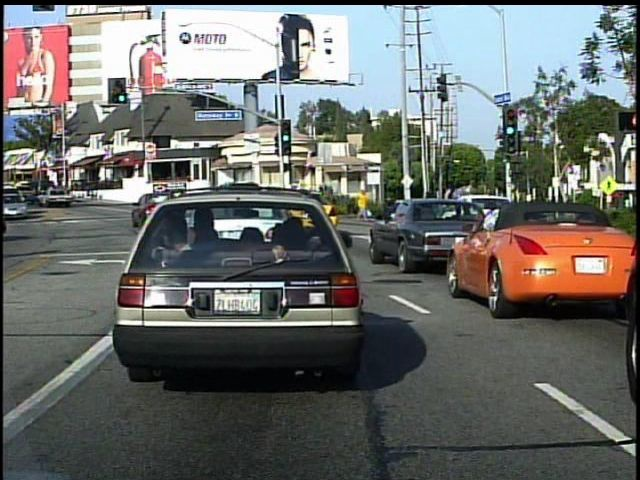person: (422, 186, 446, 232), (355, 185, 373, 224)
